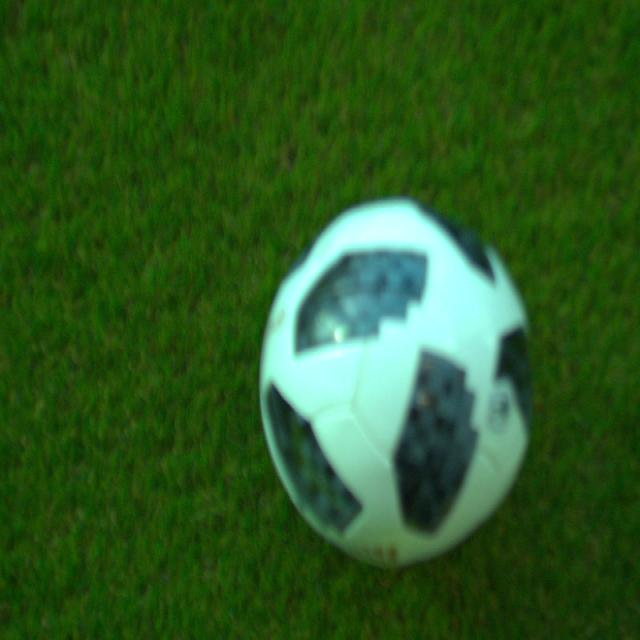ball: (258, 199, 535, 573)
